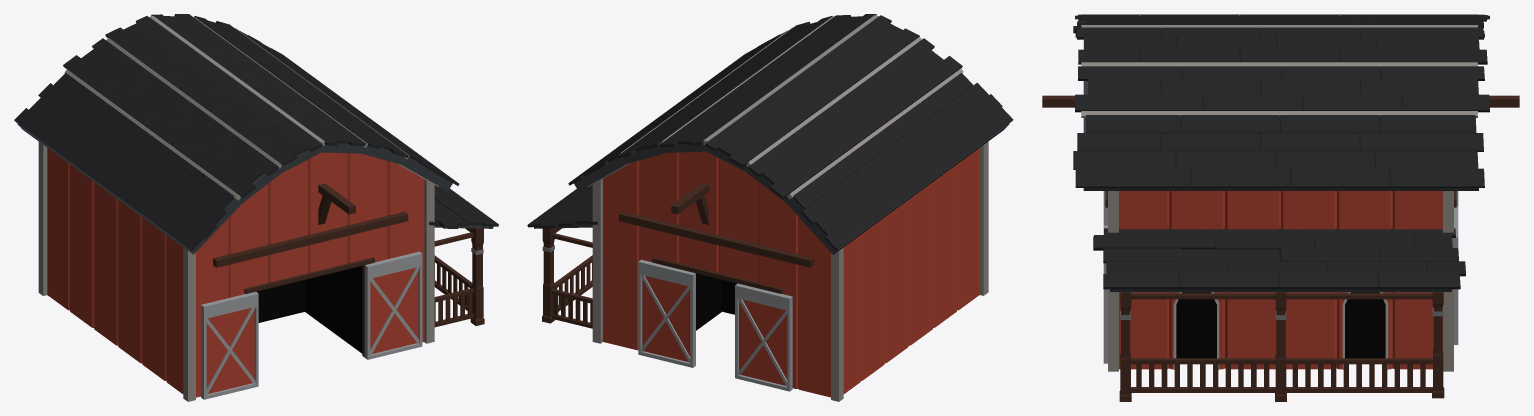
Rendered from BarnGarage_01_A.gltf.
3 renders of one model, left to right at view 1: azimuth 30°, elevation 25°; view 2: azimuth 150°, elevation 25°; view 3: azimuth 270°, elevation 25°, orthographic. The views are drawn at different scales.
Parts seen in each view (by area): view 1: BarnGarage_01_A, BarnGarageLeftDoor_01_A, BarnGarageRightDoor_01_A; view 2: BarnGarage_01_A, гаражнй амбар.007, гаражнй амбар.010; view 3: BarnGarage_01_A, гаражнй амбар.010, BarnGarageLeftDoor_01_A.
Part boxes in pixels (x1,y1,x2,y2): BarnGarage_01_A: (14,14,498,401); BarnGarageLeftDoor_01_A: (364,251,422,359); BarnGarageRightDoor_01_A: (201,292,258,399); BarnGarage_01_A: (527,14,1013,401); гаражнй амбар.007: (735,283,792,391); гаражнй амбар.010: (638,259,695,367); BarnGarage_01_A: (1042,14,1519,401); гаражнй амбар.010: (1454,206,1458,344); BarnGarageLeftDoor_01_A: (1103,225,1107,363).
Size of the model in its own units: 2.55 by 1.82 by 2.85.
